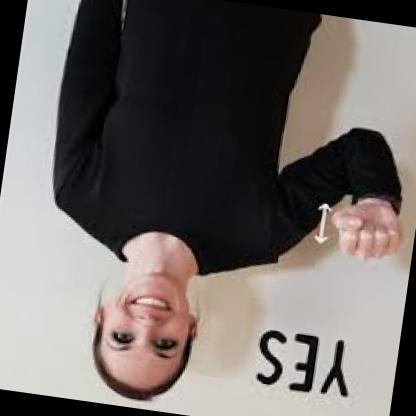yes: (316, 191, 407, 278)
